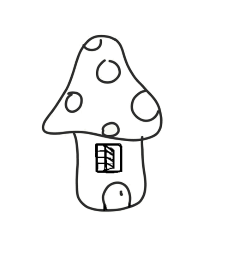door: (99, 178, 135, 214)
open_window: (93, 140, 125, 175)
roof: (42, 34, 164, 142)
wall: (73, 131, 146, 211)
